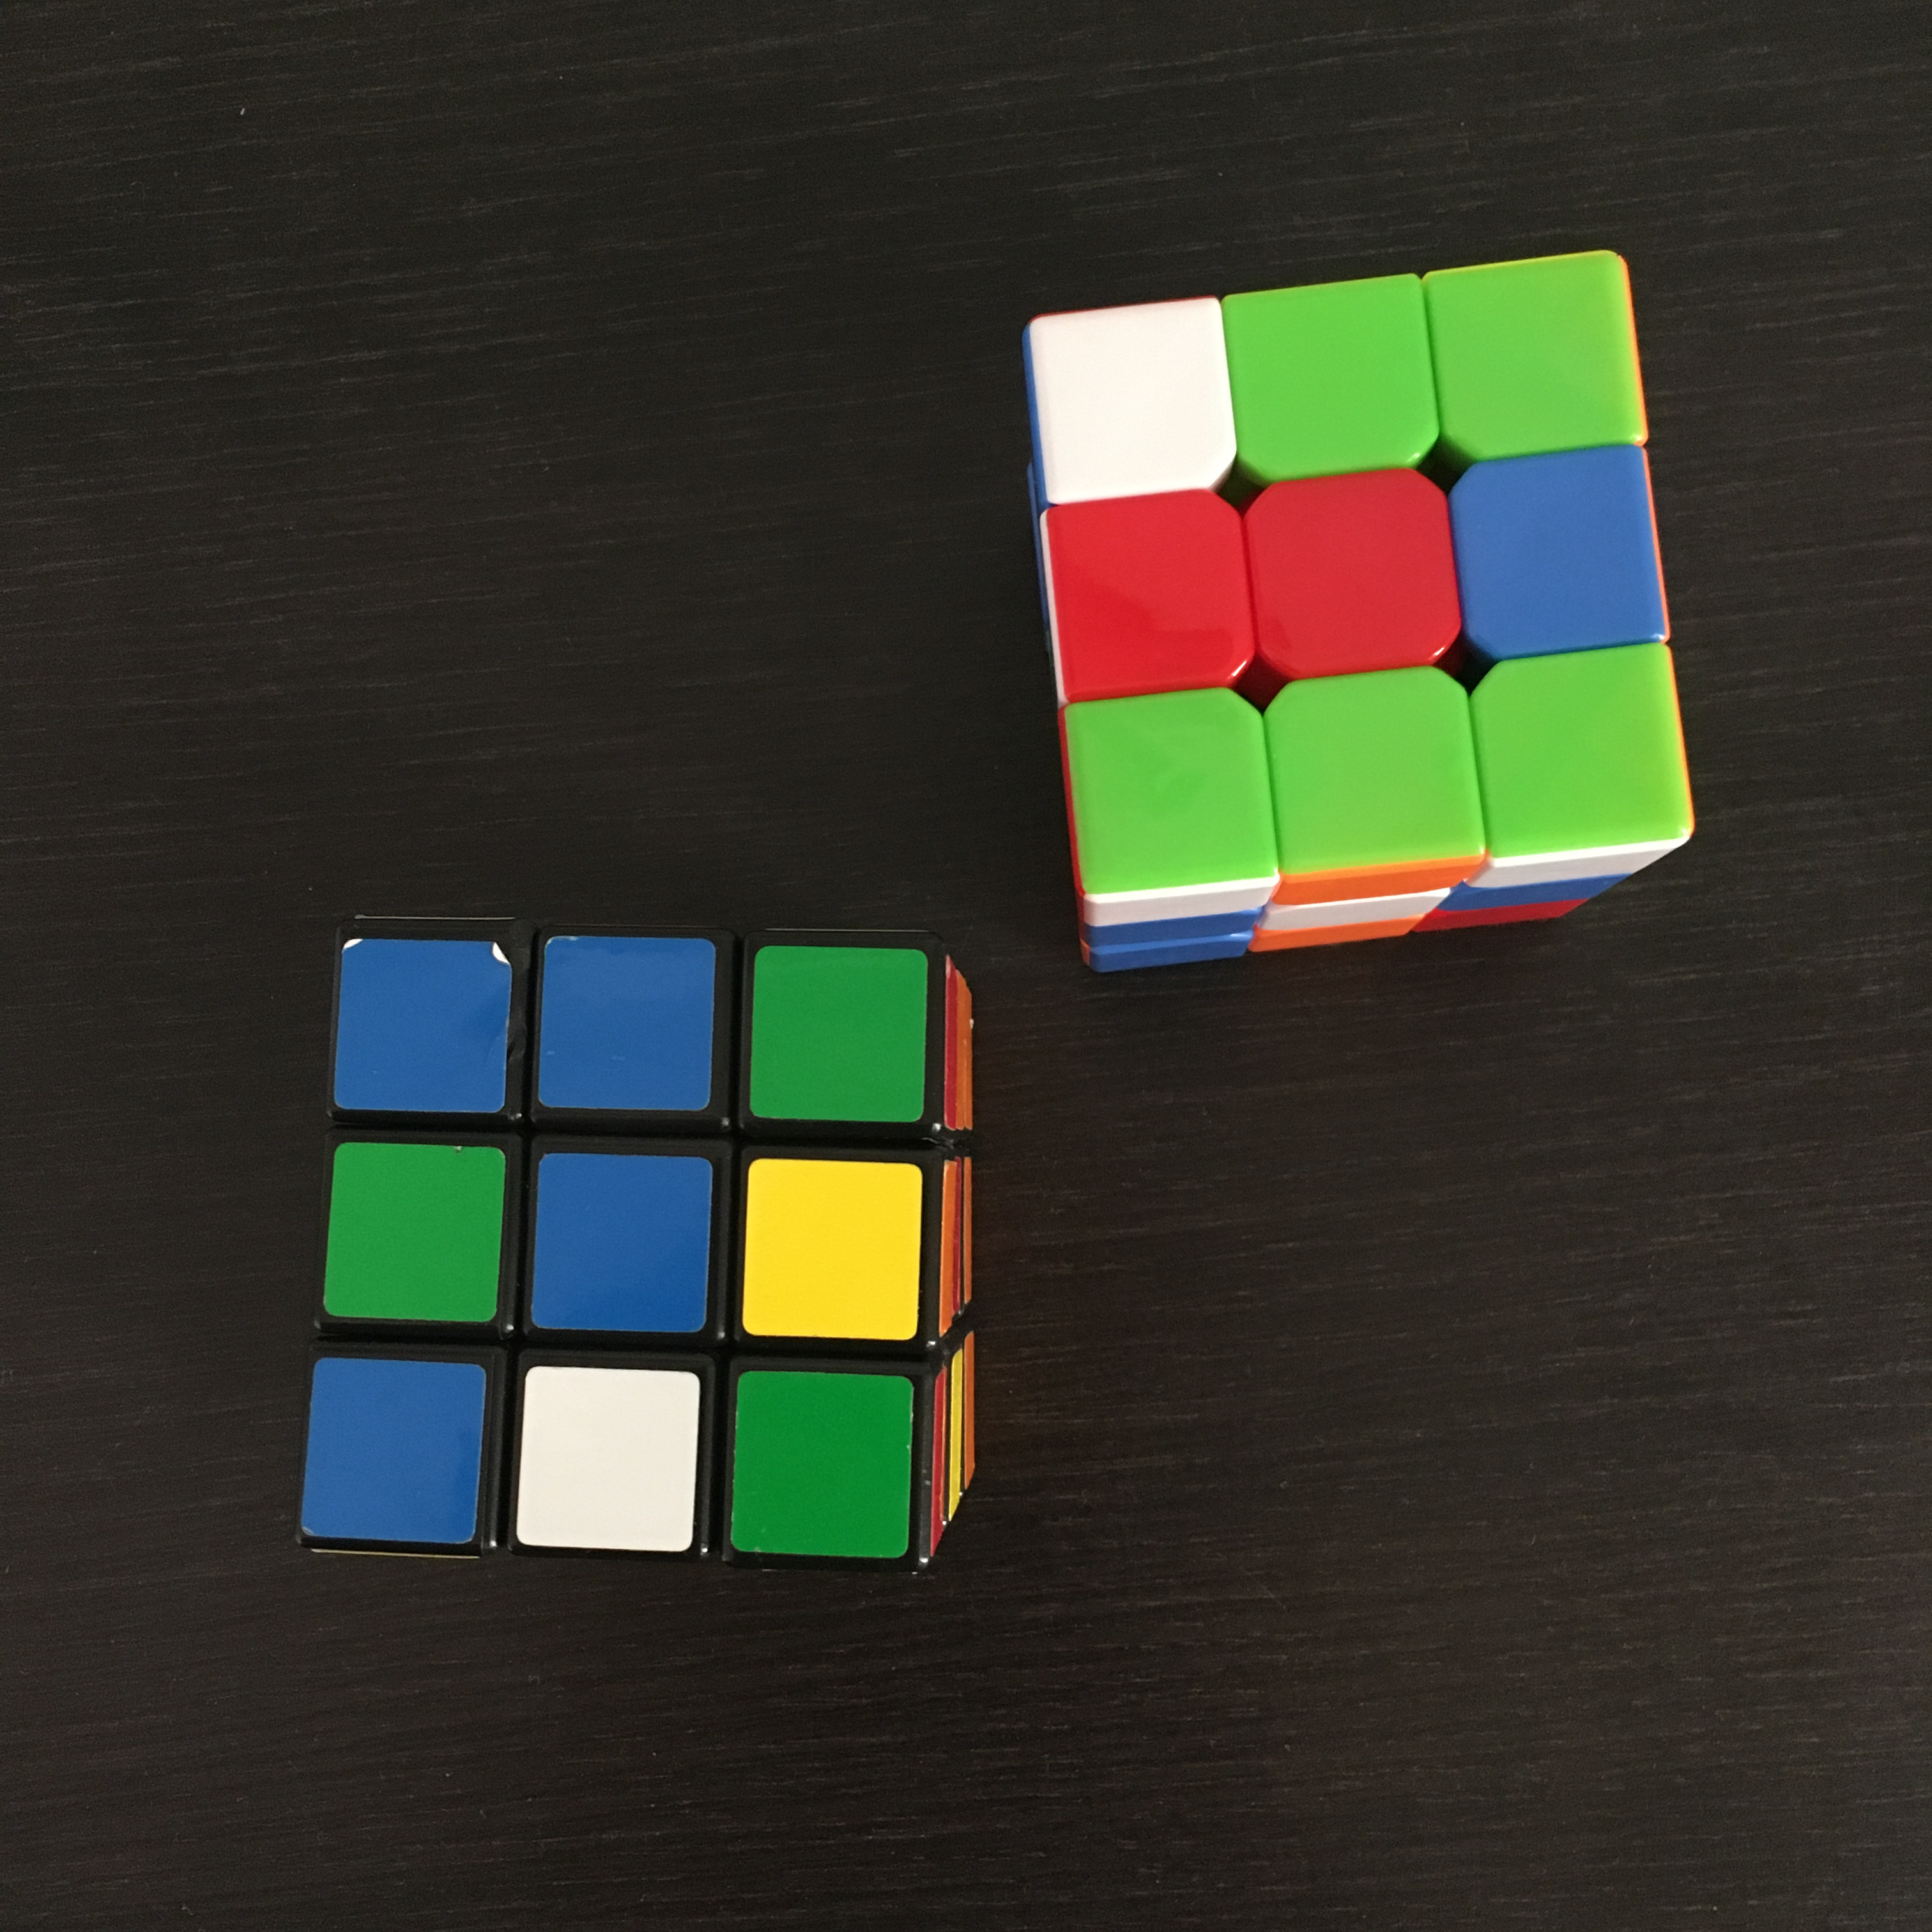face: (1028, 247, 1696, 891), (296, 924, 951, 1576)
